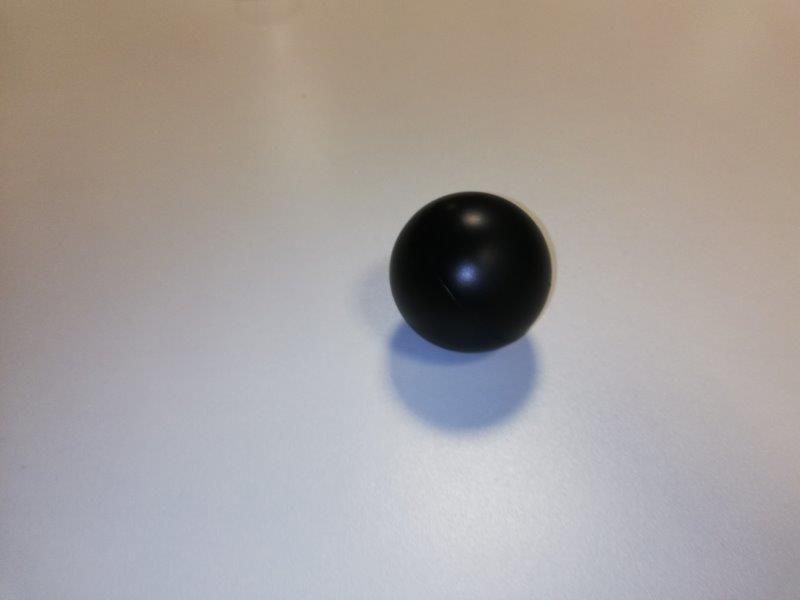nera: (387, 189, 556, 355)
